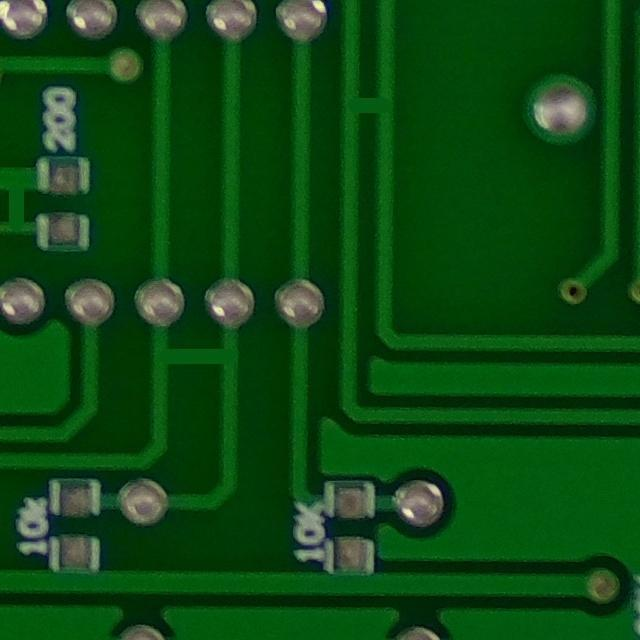short: (138, 330, 259, 392), (0, 155, 52, 243), (333, 79, 407, 140)
